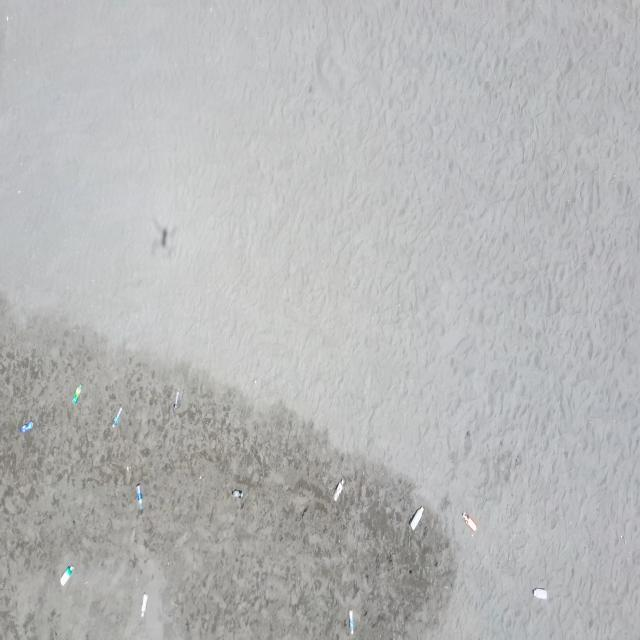Garbage: (409, 507, 423, 528), (462, 512, 475, 532), (332, 477, 343, 500), (60, 564, 72, 584), (71, 384, 81, 404), (347, 609, 355, 633), (111, 407, 121, 426), (532, 587, 547, 599), (140, 592, 147, 616), (172, 391, 180, 411), (20, 420, 32, 432), (135, 483, 140, 511), (127, 464, 131, 484), (233, 488, 243, 496)
